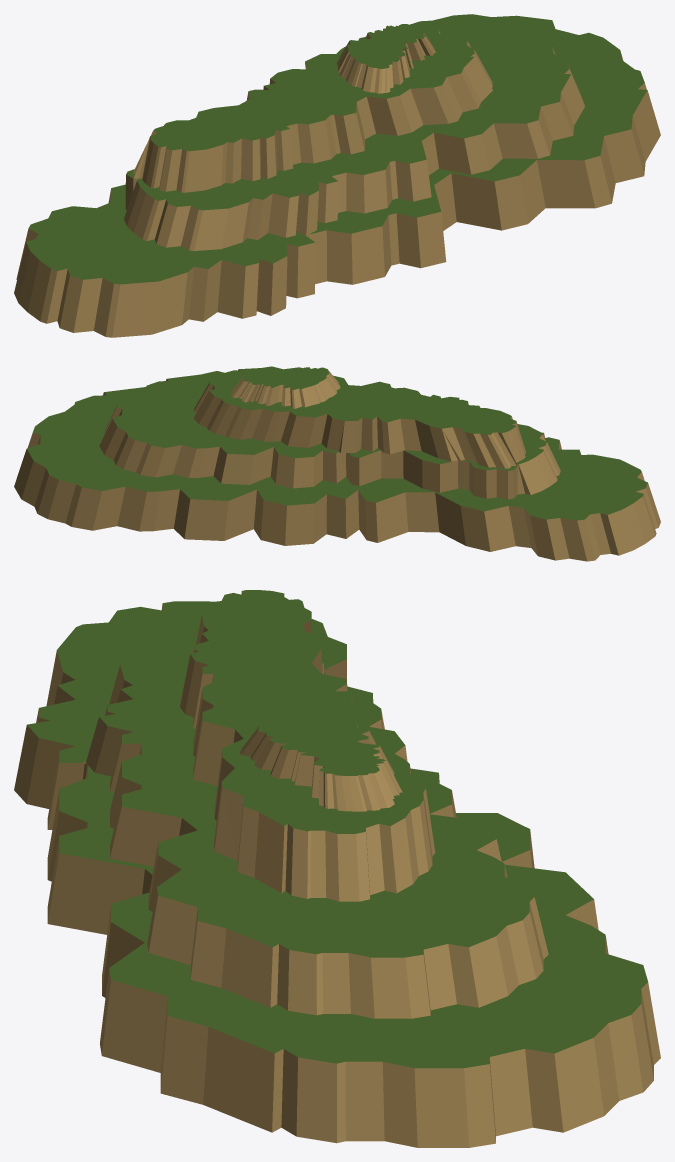
Rendered from Hill_Mound_Dirt_01.fbx.
3 views of the same model, one above another, from view 1: azimuth 30°, elevation 25°; view 2: azimuth 150°, elevation 25°; view 3: azimuth 270°, elevation 25° (orthographic). The views are drawn at different scales.
Parts seen in each view (by area): view 1: Hill_Mound_Dirt_01; view 2: Hill_Mound_Dirt_01; view 3: Hill_Mound_Dirt_01.
Boxes of the visible parts, x1=… form: Hill_Mound_Dirt_01: x1=14, y1=14, x2=660, y2=337; Hill_Mound_Dirt_01: x1=14, y1=366, x2=660, y2=561; Hill_Mound_Dirt_01: x1=14, y1=590, x2=660, y2=1147.
Size of the model in its own units: 820 by 160 by 461.
